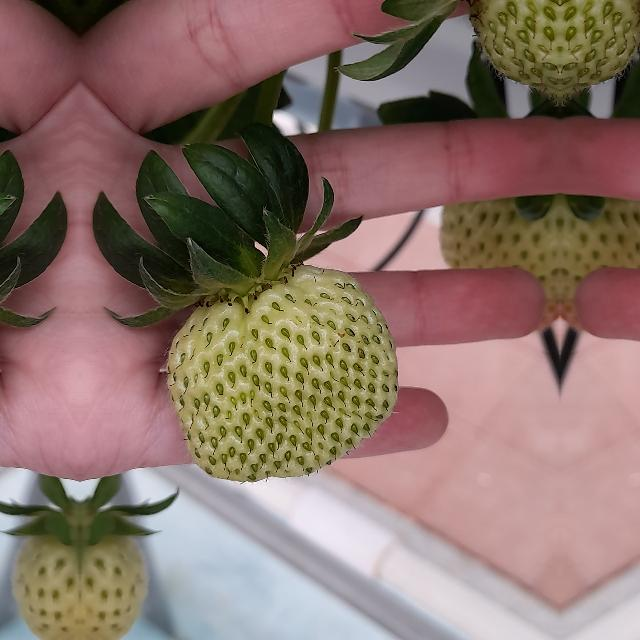Health_25: (166, 264, 398, 482), (471, 4, 559, 108), (561, 4, 640, 108)
